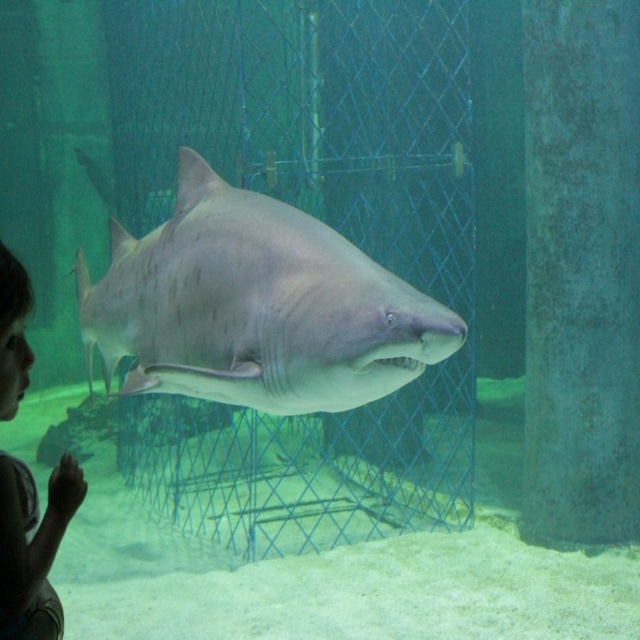Shark: (78, 148, 467, 408)
